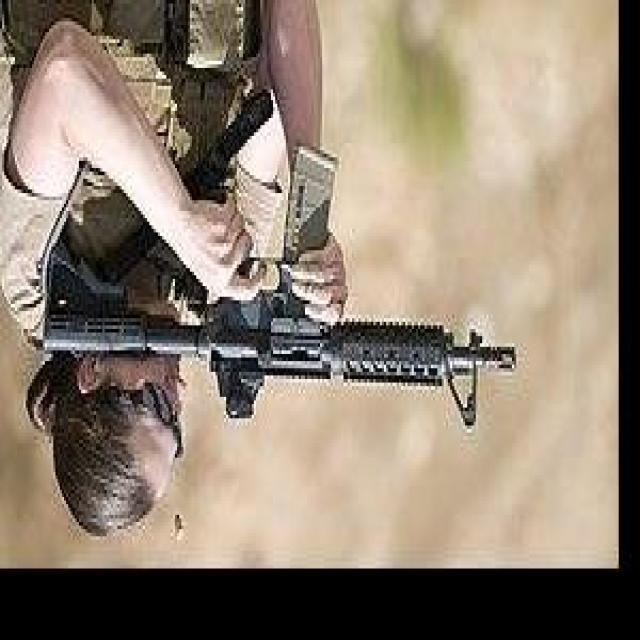Rifle: (44, 248, 517, 432)
